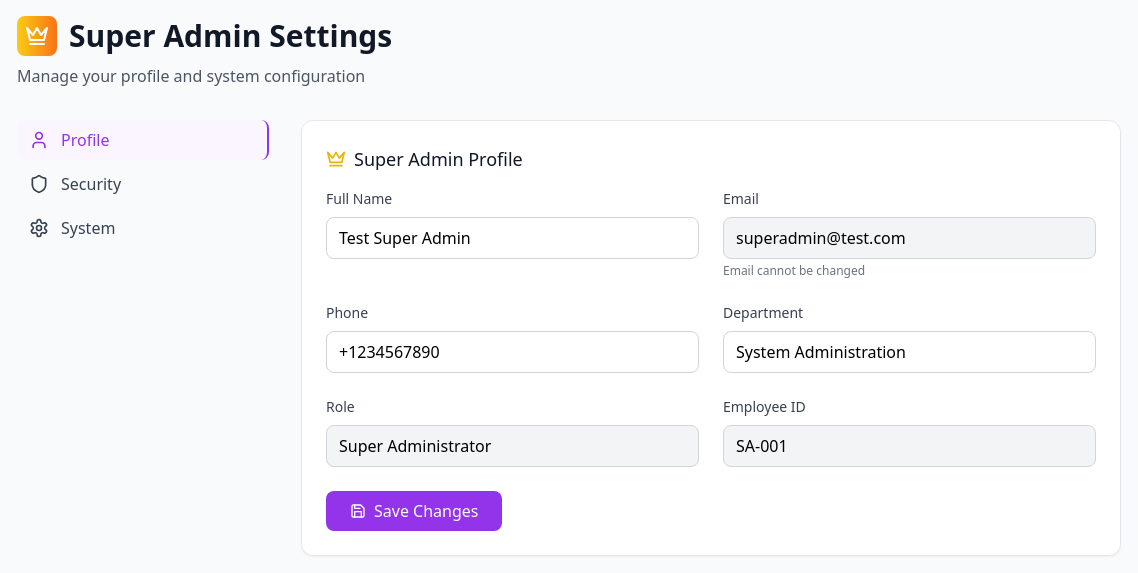
SuperAdminSettings › switches to security tab and shows password form
What coordinates should you click on to do the following:
click the button "Security"
I would click on:
 (143, 184)
Its box is [17,164,269,204].
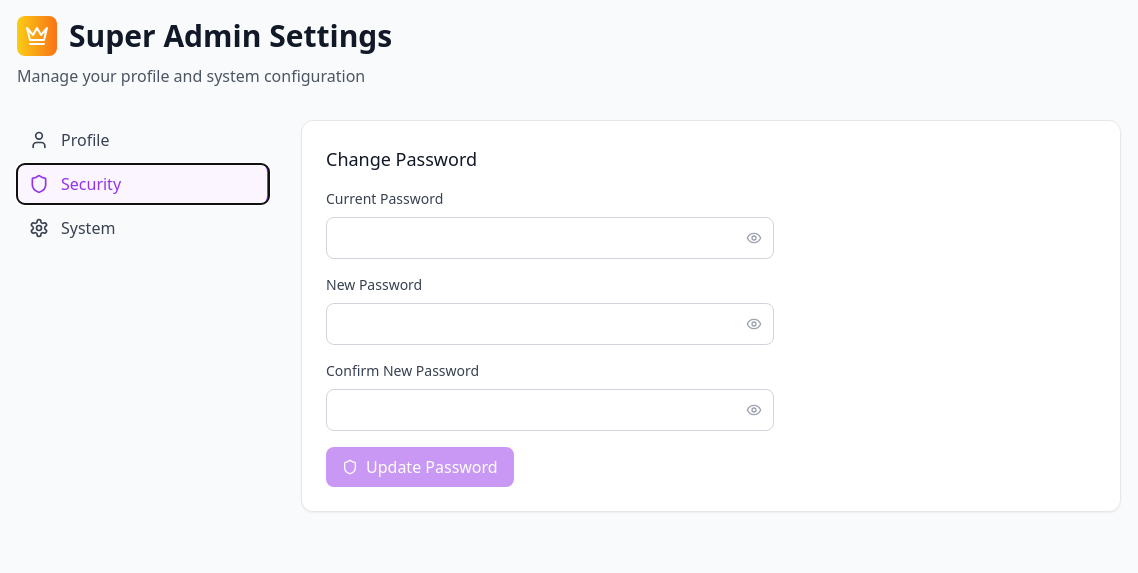
Expected: the heading "Change Password" is shown, [326,147,477,171]
Expected: the number of password fields is 3, [326,217,774,259]; [326,303,774,345]; [326,389,774,431]
